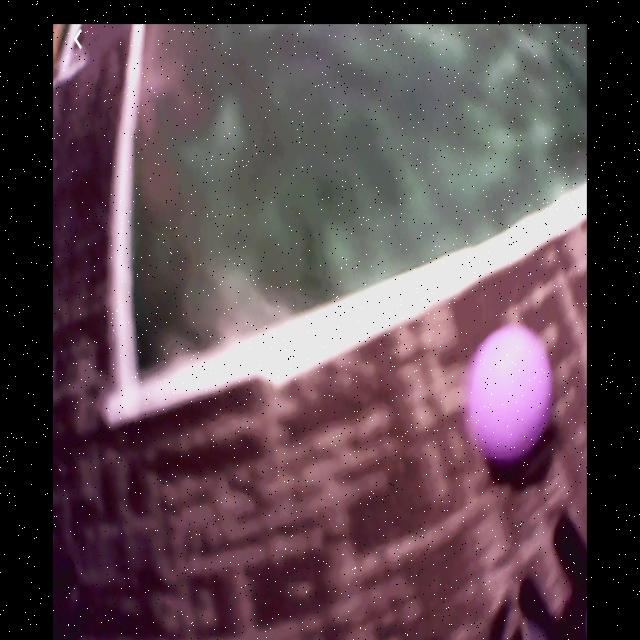ball: (466, 327, 554, 469)
